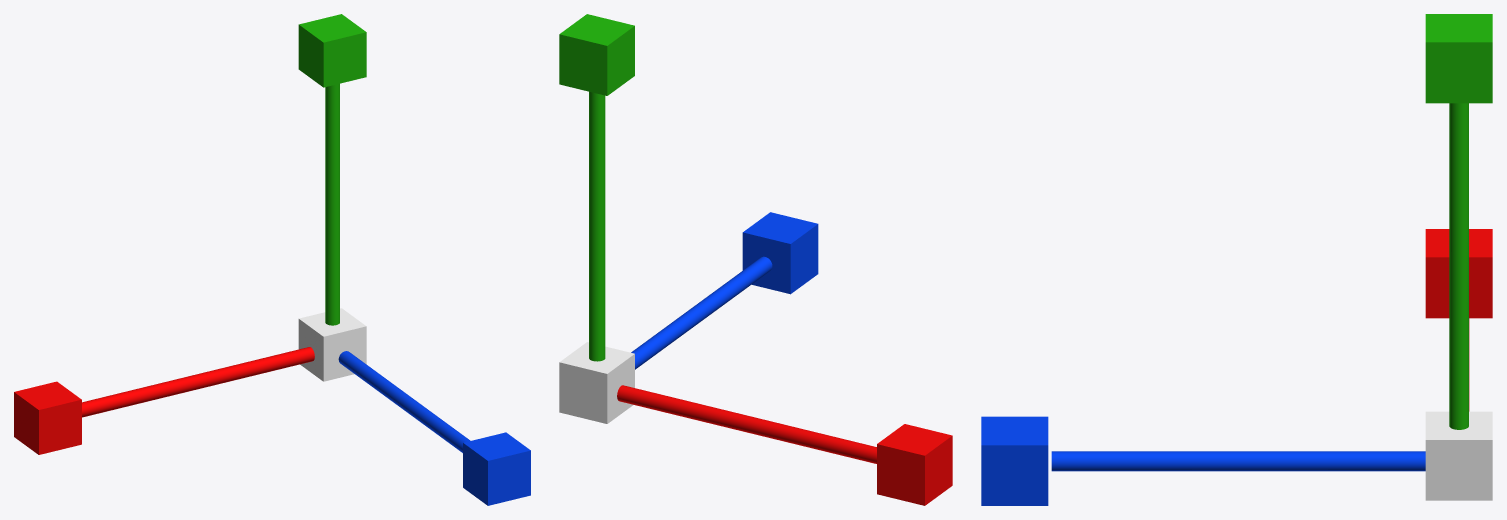
File: scale.FBX
3 renders of one model, left to right at view 1: azimuth 30°, elevation 25°; view 2: azimuth 150°, elevation 25°; view 3: azimuth 270°, elevation 25°, orthographic. The views are drawn at different scales.
Visible parts, largest first — view 1: Box001, Box004, Box003, Cylinder011, Cylinder009, Box002, Cylinder010; view 2: Box004, Box001, Box003, Box002, Cylinder011, Cylinder009, Cylinder010; view 3: Cylinder010, Cylinder009, Box003, Box001, Box002, Box004.
Boxes of the visible parts, <box> form: Box001: <box>298,14,366,87</box>; Box004: <box>14,381,81,454</box>; Box003: <box>463,432,530,505</box>; Cylinder011: <box>82,347,314,417</box>; Cylinder009: <box>325,83,339,325</box>; Box002: <box>298,308,366,381</box>; Cylinder010: <box>338,351,470,452</box>; Box004: <box>877,424,952,505</box>; Box001: <box>559,14,634,95</box>; Box003: <box>742,212,818,294</box>; Box002: <box>559,342,634,423</box>; Cylinder011: <box>617,385,876,463</box>; Cylinder009: <box>589,91,605,361</box>; Cylinder010: <box>631,256,772,369</box>; Cylinder010: <box>1051,451,1425,471</box>; Cylinder009: <box>1449,103,1468,429</box>; Box003: <box>981,416,1048,505</box>; Box001: <box>1425,14,1492,103</box>; Box002: <box>1425,411,1492,500</box>; Box004: <box>1425,229,1492,318</box>.
Size of the model in its own units: 63.8 by 63.8 by 63.8.
Materials: 1 (1 with a texture image).
